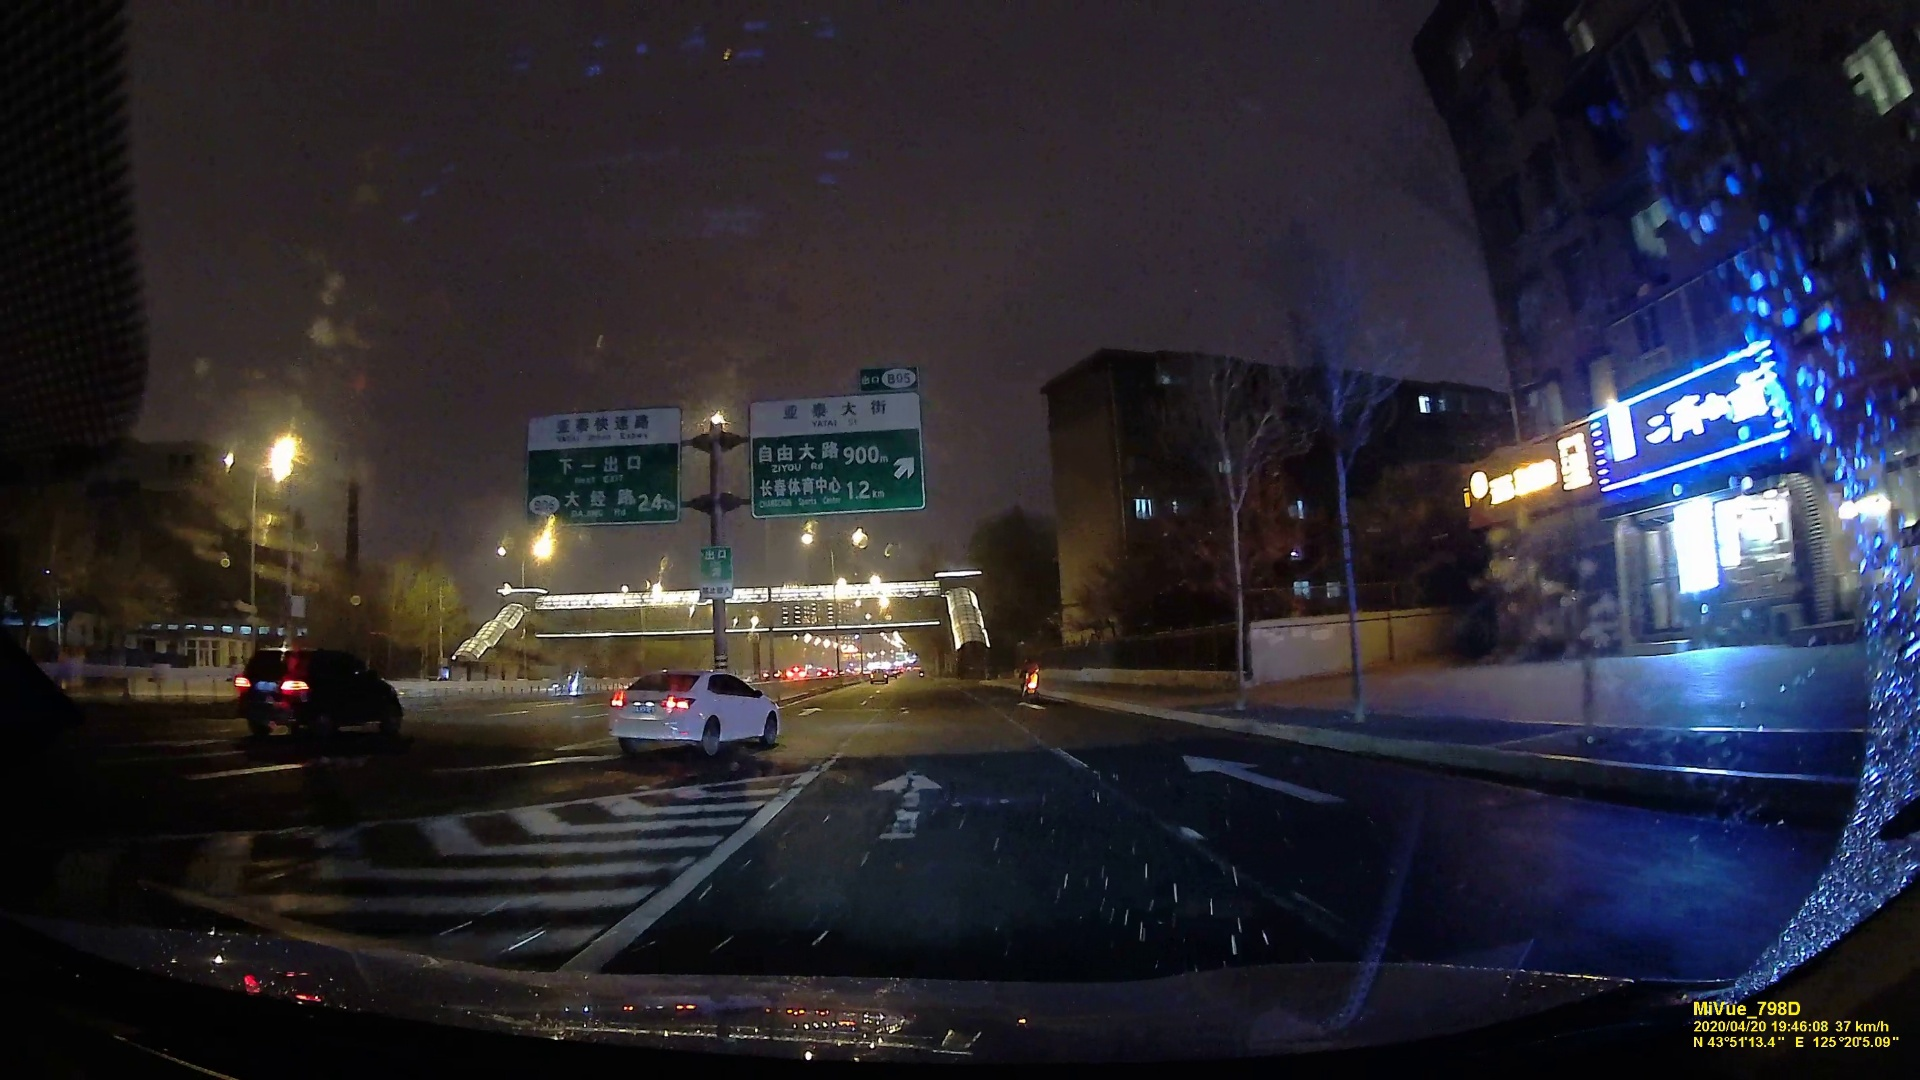traffic_sign: (750, 400, 919, 513), (530, 411, 676, 522), (699, 546, 731, 597)
vehicle: (228, 644, 402, 744), (608, 666, 783, 758), (868, 667, 887, 684)
